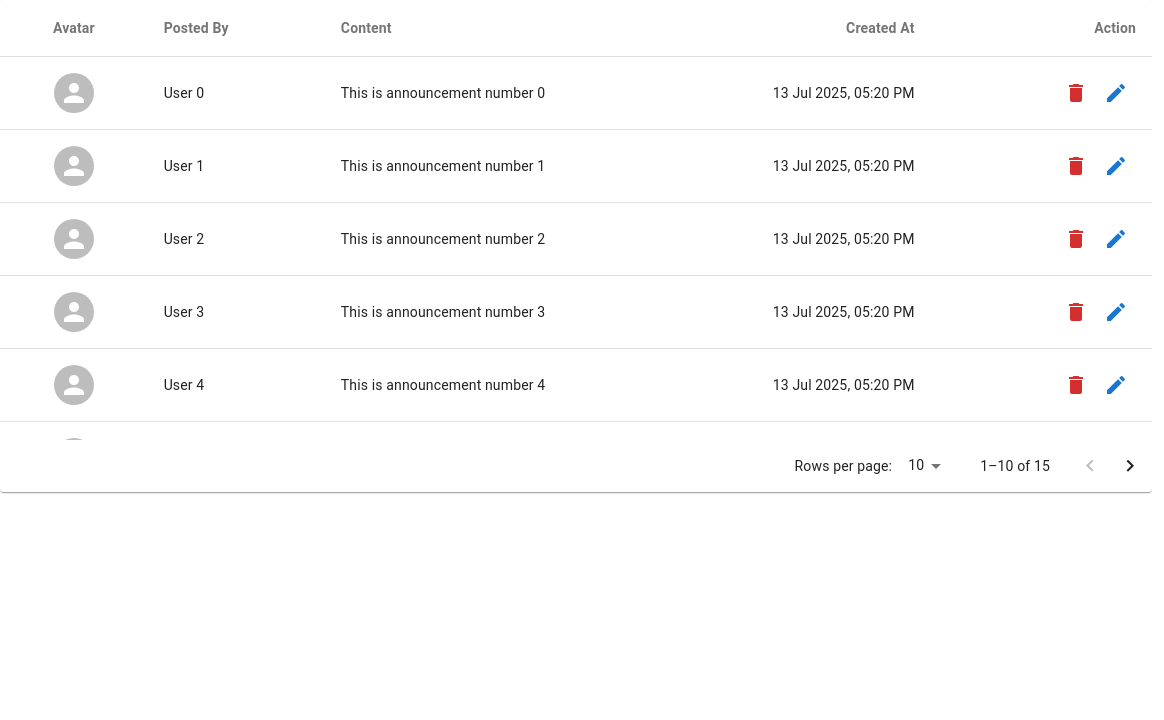
it: TableContent Component › changes rows per page to 25
What coordinates should you click on to do the following:
click the dropdown named "Rows per page:"
I would click on:
 (916, 465)
Its box is [908, 457, 924, 473].
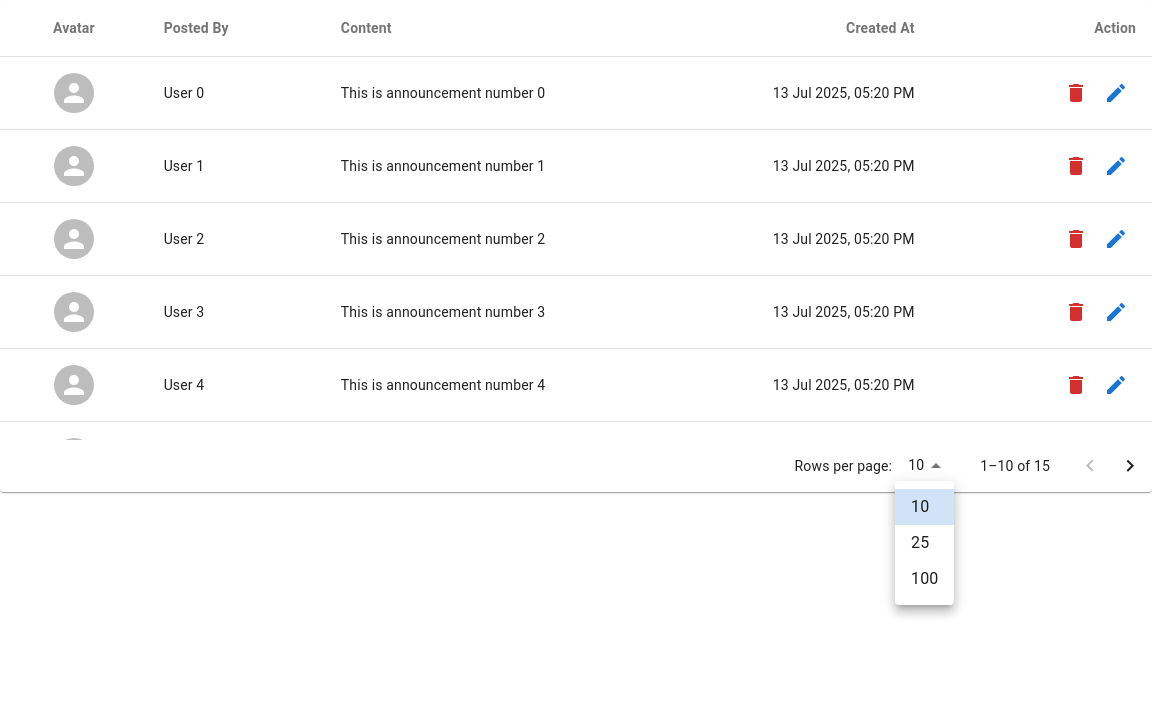
What coordinates should you click on to do the following:
click the option "25"
I would click on:
 (920, 542)
Its box is [911, 533, 929, 552].
(page scrolled)
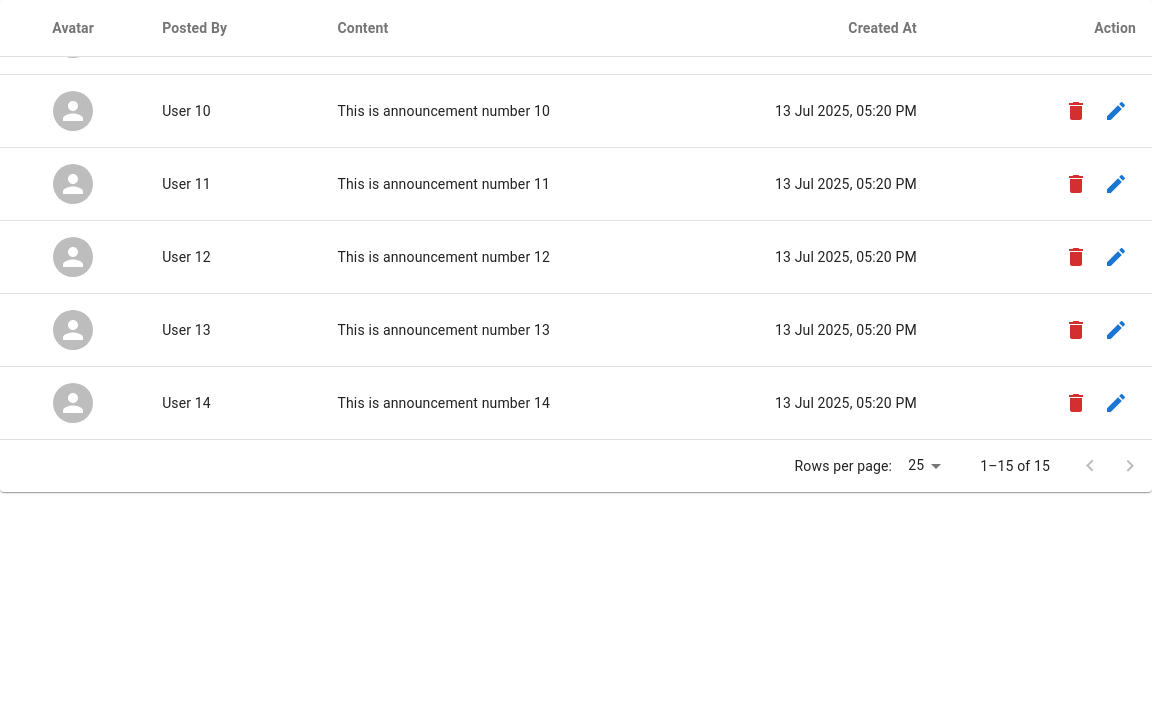
expect the text "This is announcement number 14" is shown: met, box [322, 367, 679, 440]
